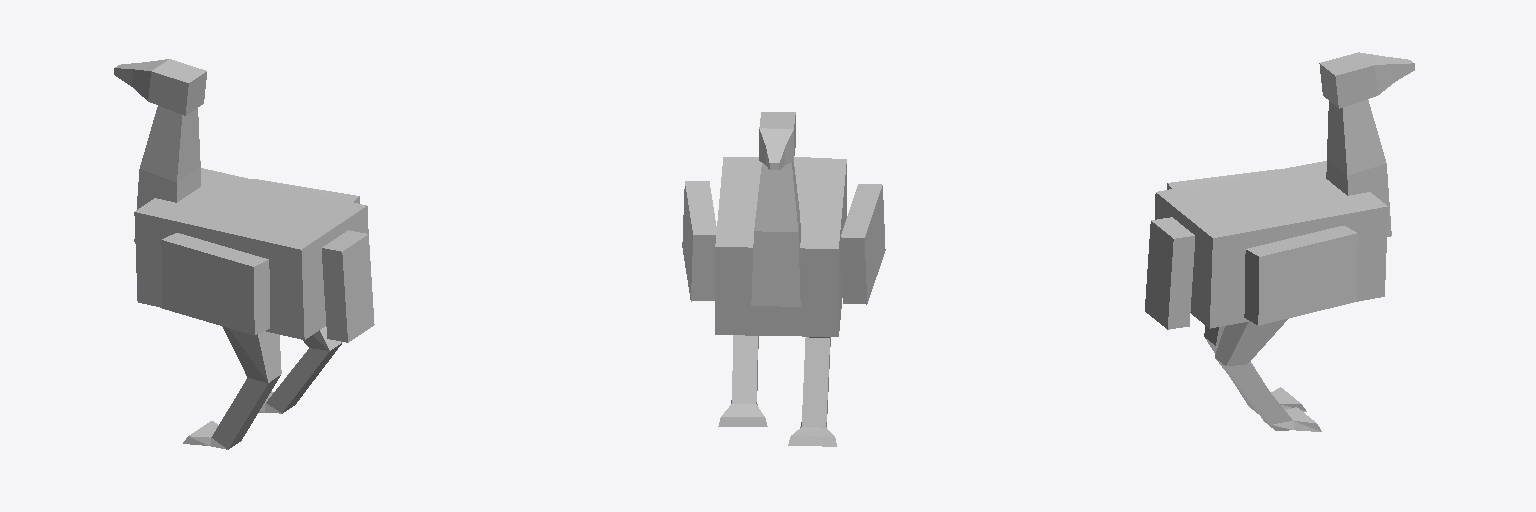
Rendered from Ostrich_000068.obj.
3 views of the same model, side by side, from view 1: azimuth 30°, elevation 25°; view 2: azimuth 150°, elevation 25°; view 3: azimuth 270°, elevation 25° (orthographic).
Visible parts, largest first — view 1: Cube_Cube.001; view 2: Cube_Cube.001; view 3: Cube_Cube.001.
Boxes of the visible parts, box(x1,y1,x2,y2) form: Cube_Cube.001: box(114, 59, 374, 449); Cube_Cube.001: box(682, 112, 885, 446); Cube_Cube.001: box(1145, 52, 1414, 431).
Bounding box in the file's own units: 0.901 × 1.53 × 1.09.